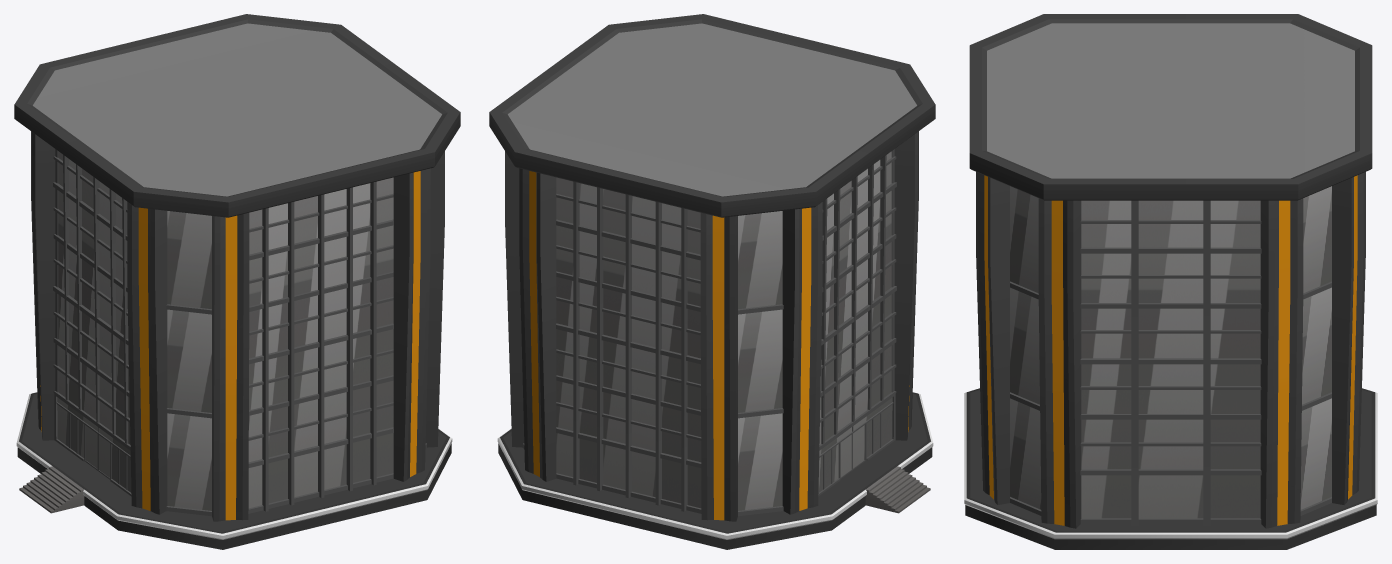
The model's file is Building_7_3_E.fbx.
The picture shows the model from 3 angles, left to right: view 1: azimuth 30°, elevation 25°; view 2: azimuth 150°, elevation 25°; view 3: azimuth 270°, elevation 25°; orthographic projection. The views are drawn at different scales.
Visible parts, largest first — view 1: Building_7_3_E; view 2: Building_7_3_E; view 3: Building_7_3_E.
Boxes of the visible parts, box(x1,y1,x2,y2) form: Building_7_3_E: box(14, 14, 460, 549); Building_7_3_E: box(489, 14, 935, 549); Building_7_3_E: box(964, 14, 1377, 549).
Size of the model in its own units: 2520 by 2267 by 2311.
